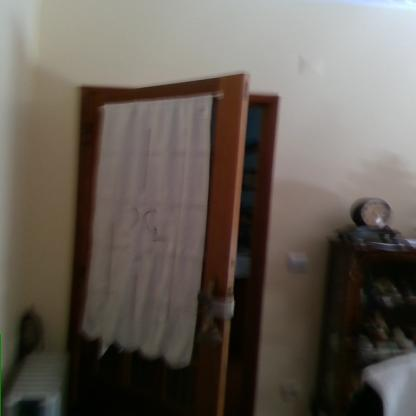semi: (54, 73, 288, 415)
